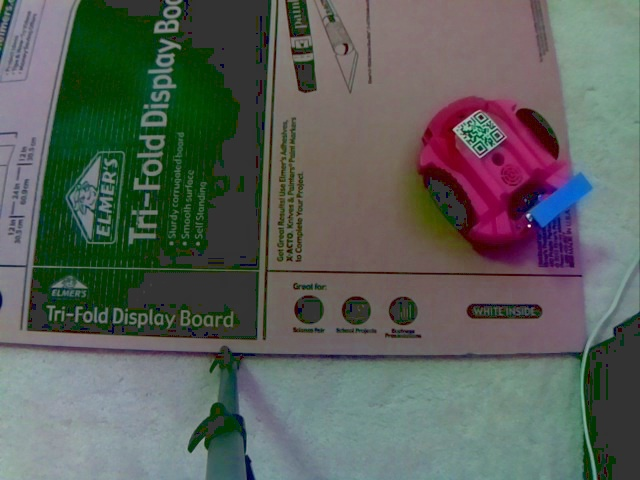board: (525, 165, 593, 232)
chassis: (415, 92, 592, 252)
